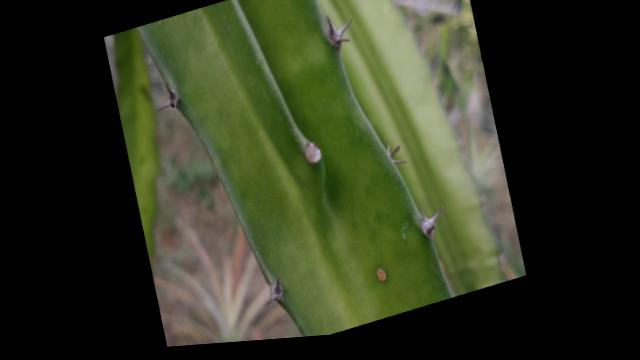stemcanker: (373, 263, 391, 286)
